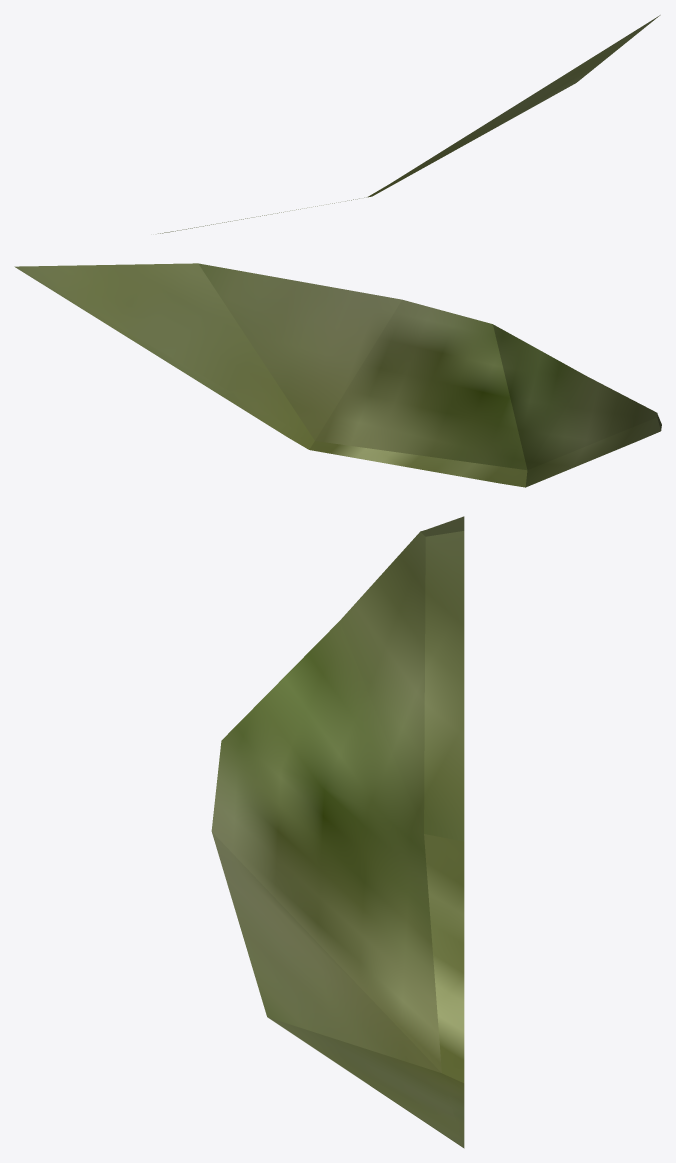
3 views of the same model, one above another, from view 1: azimuth 30°, elevation 25°; view 2: azimuth 150°, elevation 25°; view 3: azimuth 270°, elevation 25° (orthographic). The views are drawn at different scales.
Size of the model in its own units: 2.48 by 0.4082 by 0.4197.
Materials: 1 (1 with a texture image).
